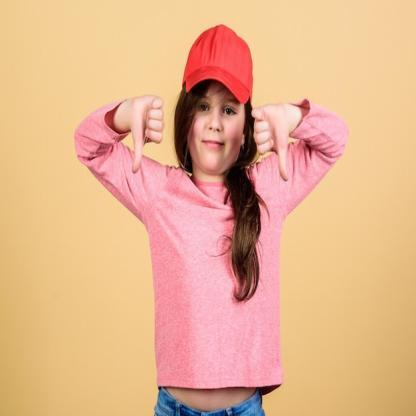thumb_down: (249, 98, 297, 186), (128, 90, 166, 174)
